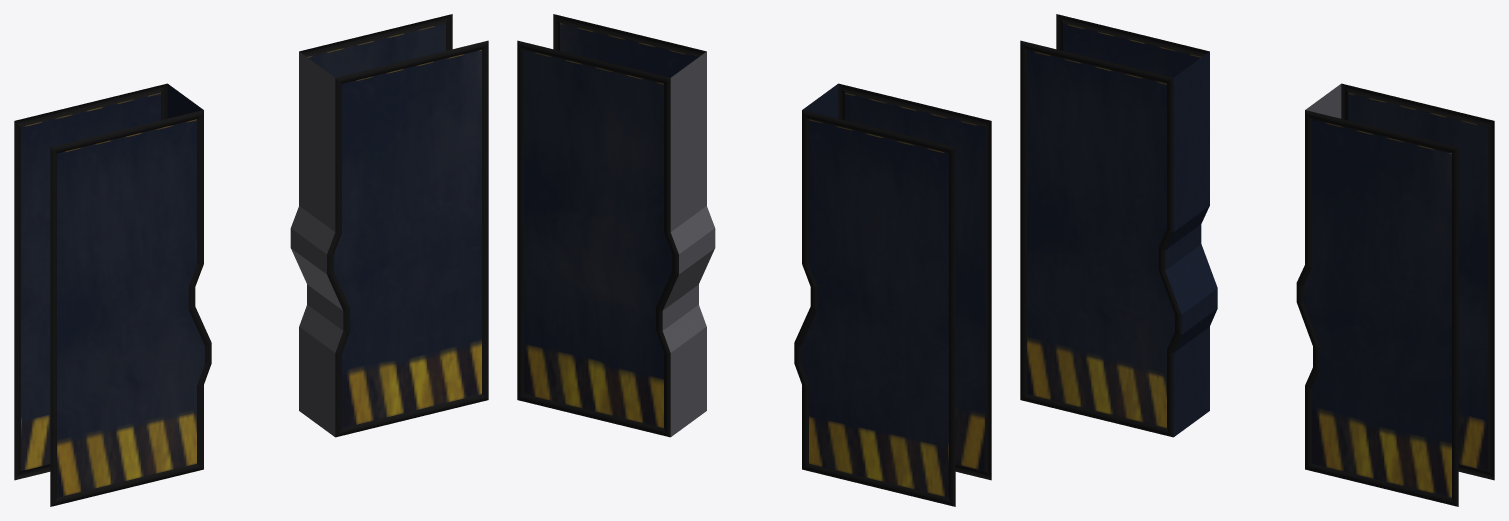
The model's file is door-normal_000004.obj.
3 renders of one model, left to right at view 1: azimuth 30°, elevation 25°; view 2: azimuth 150°, elevation 25°; view 3: azimuth 330°, elevation 25°, orthographic.
Parts seen in each view (by area): view 1: Door.Left_Cube.007, Door.Right_Cube.006; view 2: Door.Left_Cube.007, Door.Right_Cube.006; view 3: Door.Left_Cube.007, Door.Right_Cube.006.
Part boxes in pixels (x1,y1,x2,y2): Door.Left_Cube.007: [290, 14, 488, 437]; Door.Right_Cube.006: [14, 83, 211, 506]; Door.Left_Cube.007: [517, 14, 715, 437]; Door.Right_Cube.006: [794, 83, 991, 506]; Door.Left_Cube.007: [1296, 83, 1494, 506]; Door.Right_Cube.006: [1020, 14, 1217, 437].
Size of the model in its own units: 6.71 by 5.26 by 0.9998.
6 materials, 6 textured.
